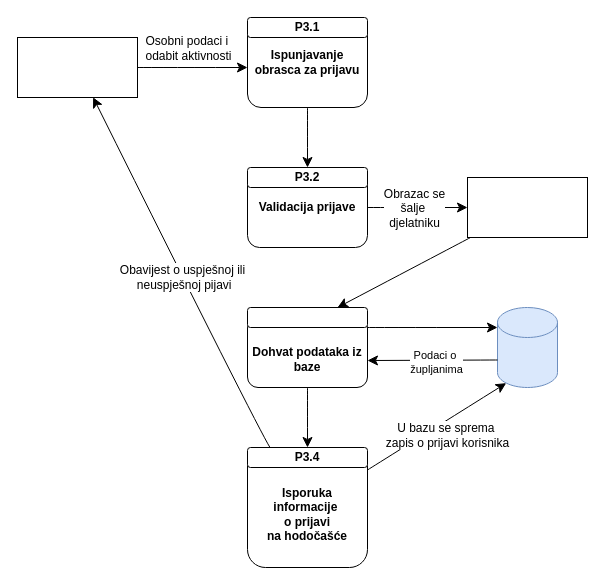
This 605x585 diagram has some shape labels left out. The shapes that lost their labels are listed below. From the top down, each one's centre as x and y in pixels, then its label:
At (77,67): "KORISNIK".
At (527,207): "DJELATNIK".
At (307,317): "P3.3".
At (527,347): "Baza podataka".
